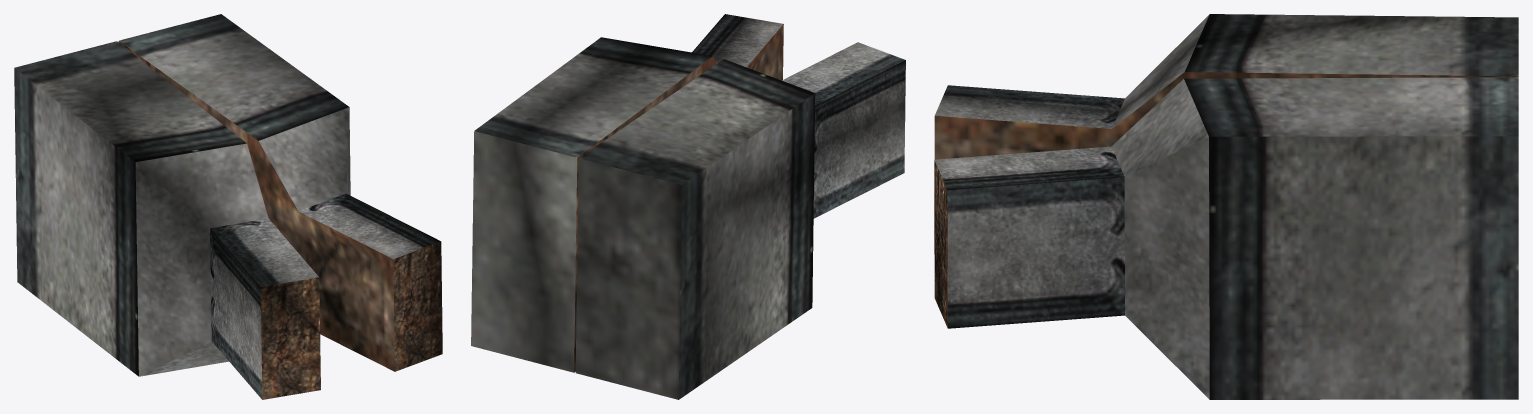
The model's file is column-destr_06.obj.
3 renders of one model, left to right at view 1: azimuth 30°, elevation 25°; view 2: azimuth 150°, elevation 25°; view 3: azimuth 270°, elevation 25°, orthographic. The views are drawn at different scales.
Parts seen in each view (by area): view 1: (null); view 2: (null); view 3: (null).
Boxes of the visible parts, x1,y1,x2,y2 form: (null): [14, 14, 442, 399]; (null): [471, 14, 905, 399]; (null): [934, 14, 1518, 399].
Size of the model in its own units: 0.7109 by 0.6843 by 1.37.
